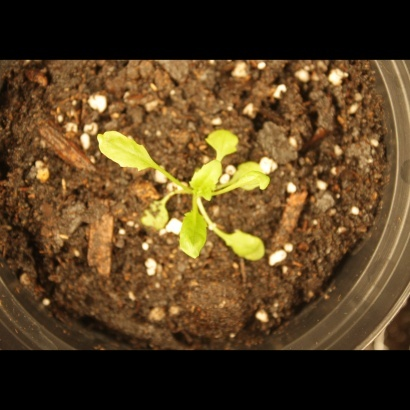leaf: (87, 128, 163, 184), (175, 200, 211, 271), (217, 223, 271, 265), (202, 116, 246, 160), (136, 192, 172, 241), (189, 160, 225, 201), (231, 171, 276, 201), (232, 153, 270, 185)
